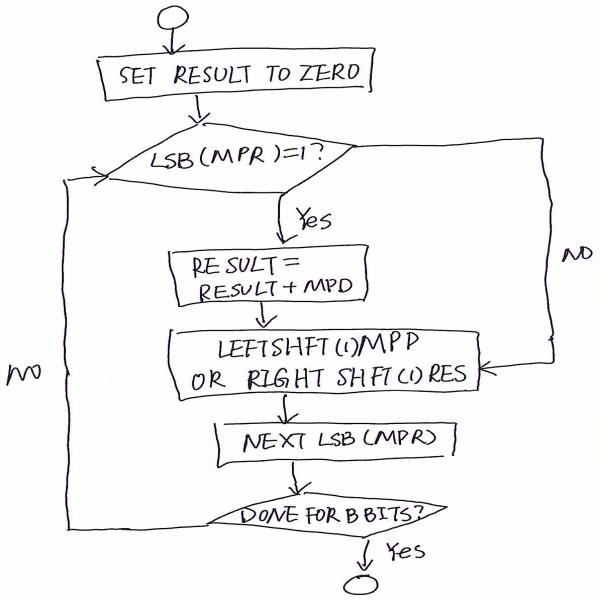arrow: (44, 166, 213, 540), (367, 134, 558, 379), (266, 193, 296, 246), (178, 92, 212, 130), (352, 536, 384, 573), (265, 393, 304, 422), (284, 458, 314, 494), (158, 26, 192, 52), (248, 299, 276, 329)
decision: (93, 120, 364, 195), (206, 488, 455, 542)
process: (165, 325, 487, 403), (87, 46, 380, 102), (164, 243, 382, 306), (206, 419, 468, 470)
terminator: (151, 2, 197, 34), (345, 570, 383, 600)
text: (188, 331, 473, 394), (183, 252, 360, 303), (118, 56, 364, 87), (148, 139, 328, 174), (243, 430, 442, 456), (240, 504, 427, 528), (292, 203, 341, 234), (3, 358, 46, 393), (382, 536, 431, 564), (555, 241, 594, 268)
